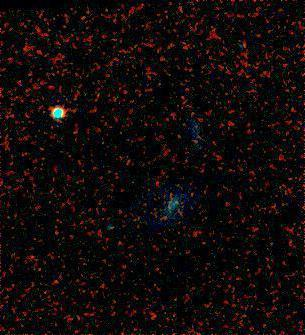star: (176, 183, 206, 213)
